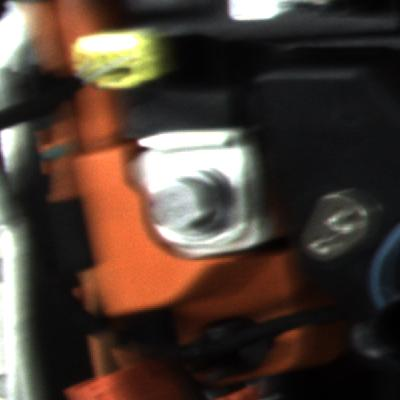nut_b: (145, 165, 240, 247)
